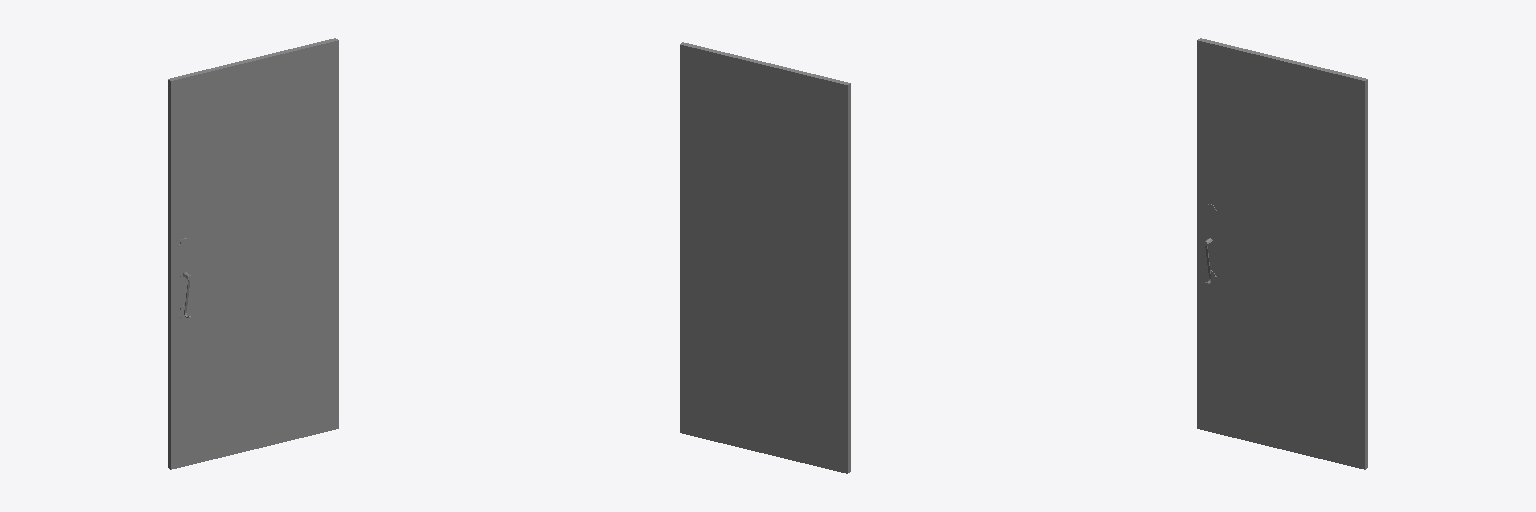
The model's file is door.obj.
3 views of the same model, side by side, from view 1: azimuth 30°, elevation 25°; view 2: azimuth 150°, elevation 25°; view 3: azimuth 330°, elevation 25° (orthographic).
Parts seen in each view (by area): view 1: door01_Mesh.925; view 2: door01_Mesh.925; view 3: door01_Mesh.925.
Boxes of the visible parts, box(x1,y1,x2,y2) form: door01_Mesh.925: box(168, 38, 338, 469); door01_Mesh.925: box(680, 42, 850, 473); door01_Mesh.925: box(1197, 38, 1367, 469).
Size of the model in its own units: 0.0688 by 0.152 by 0.0062.